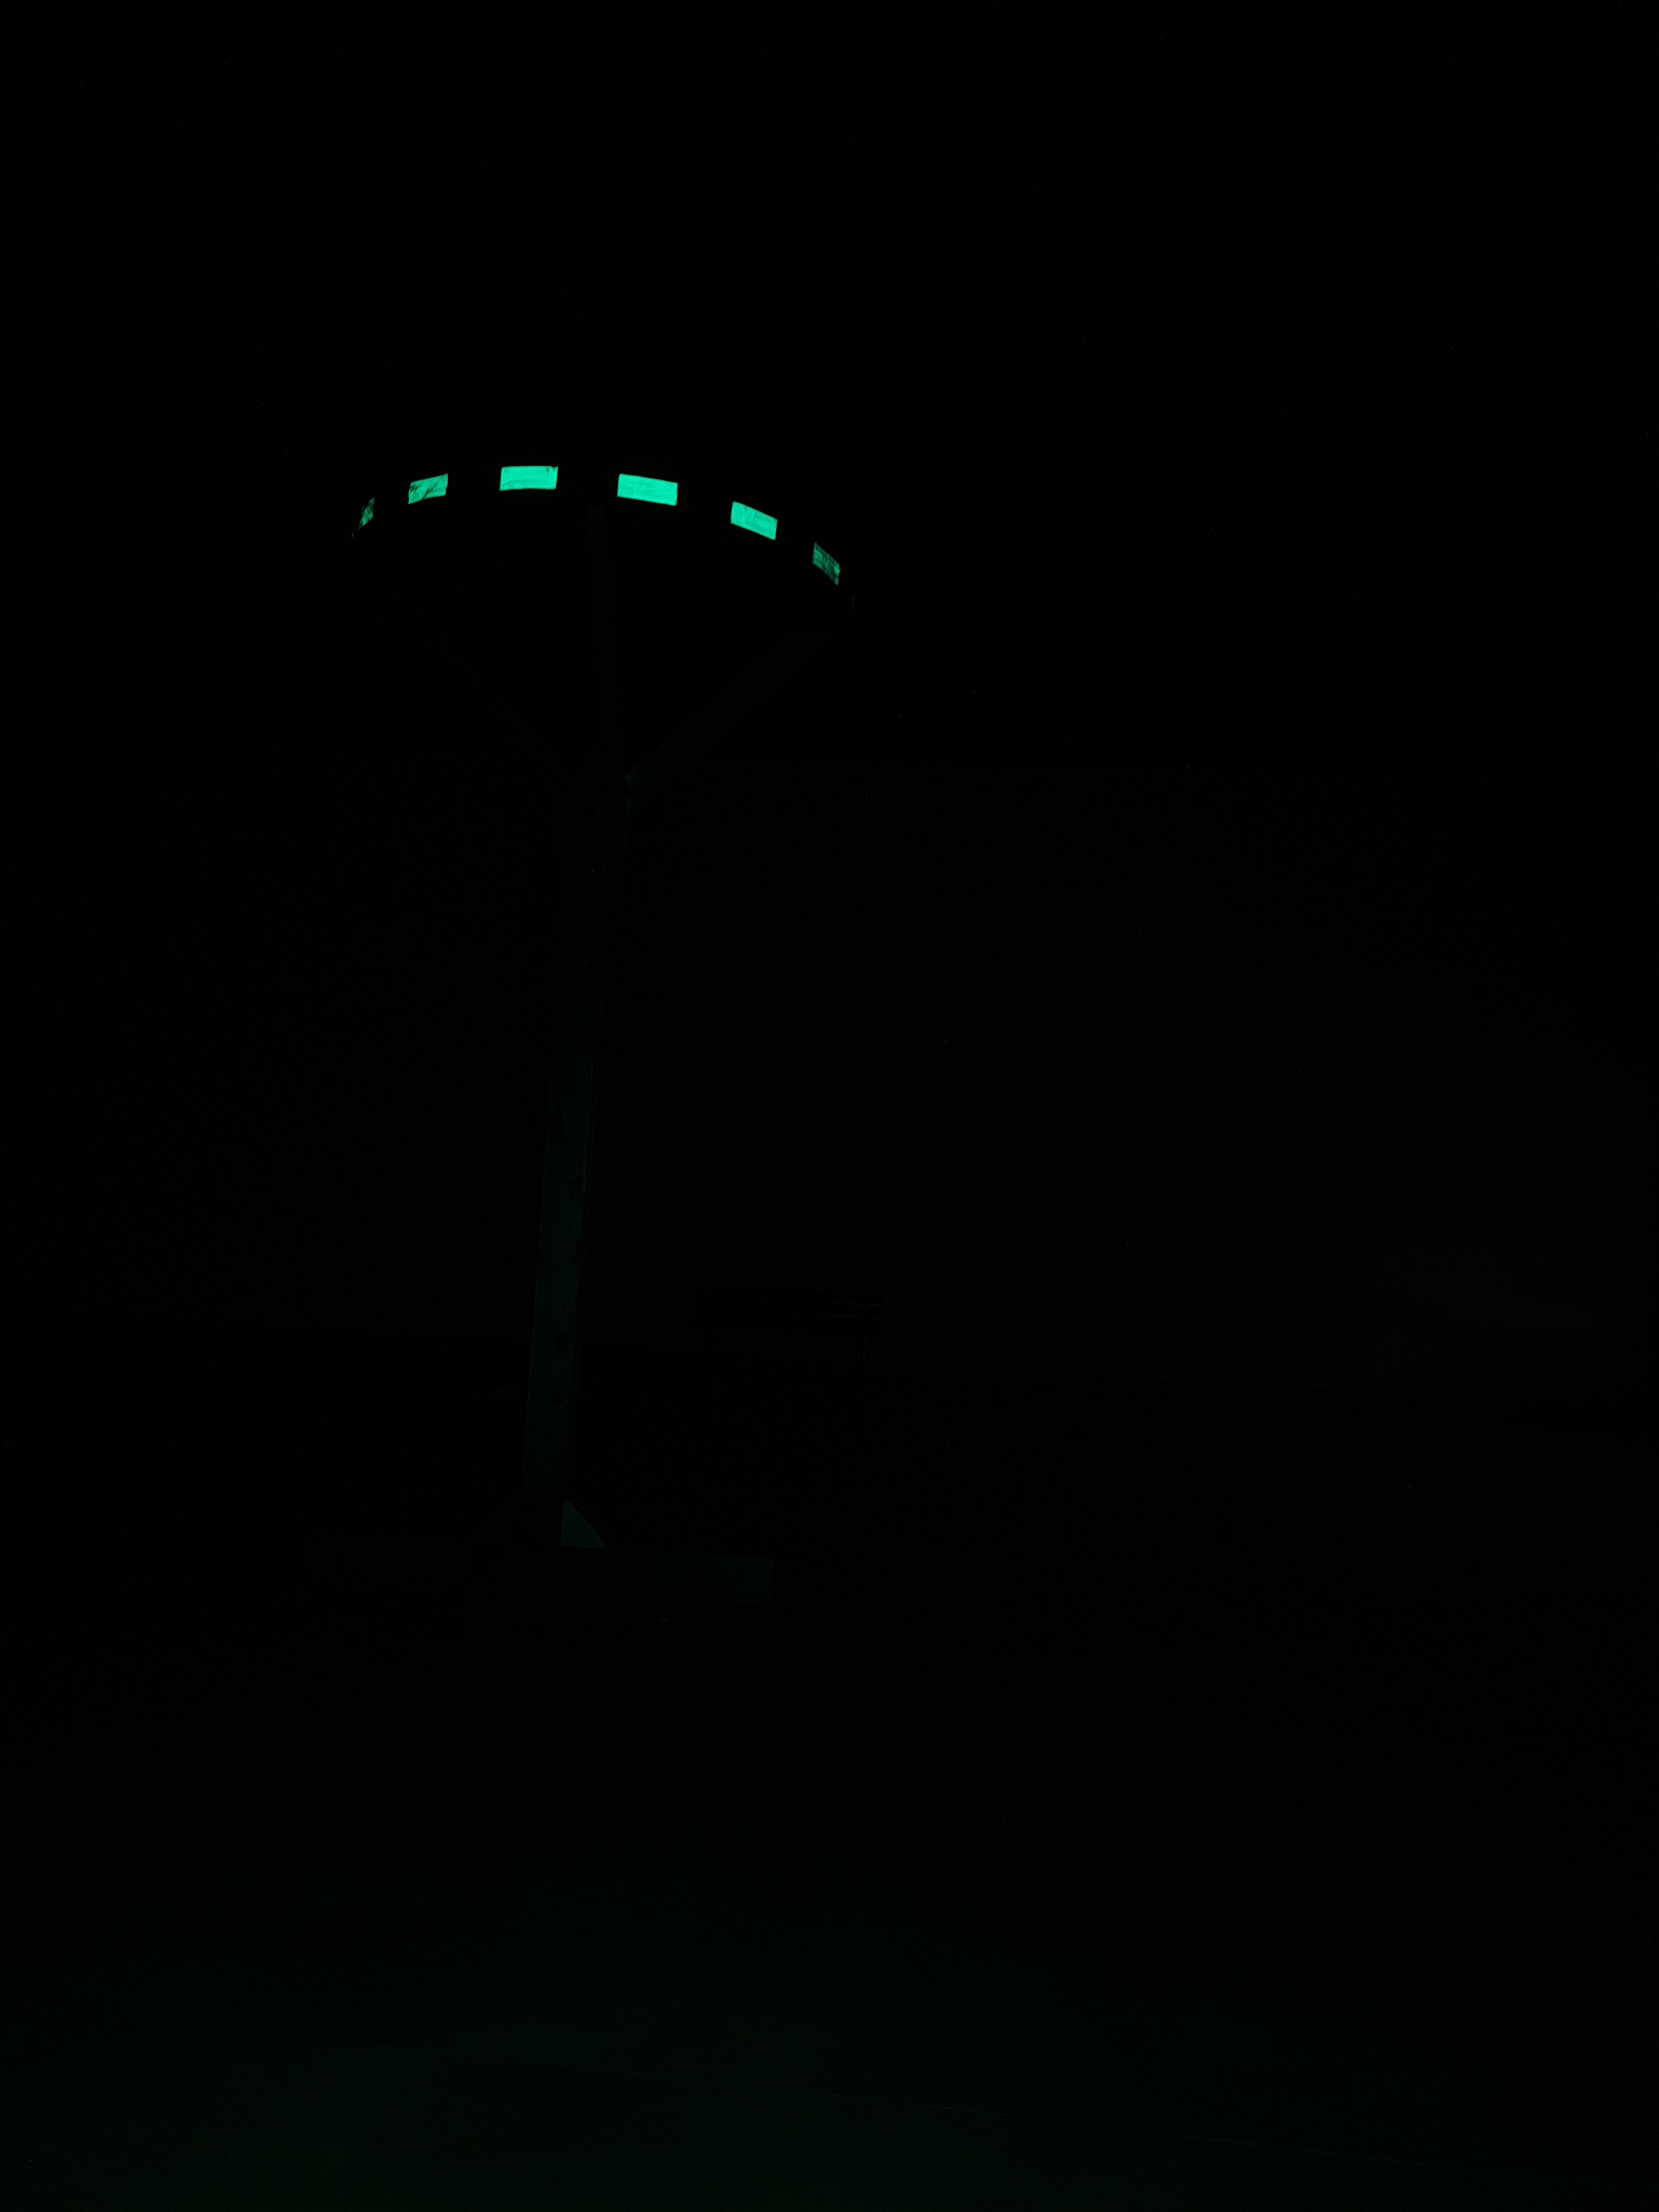hoop: (343, 456, 850, 592)
